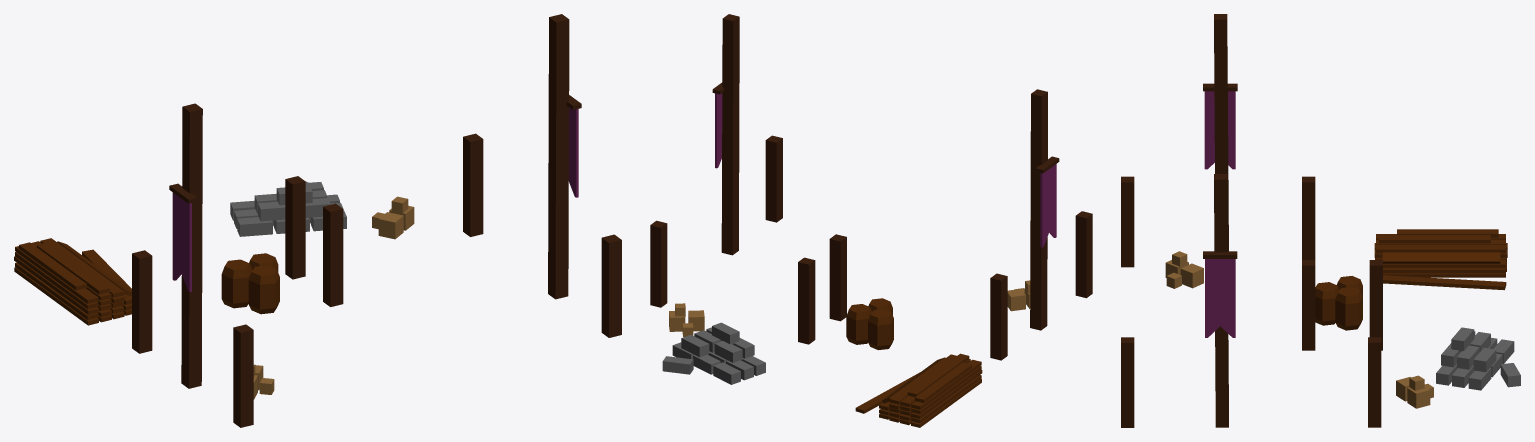
Rendered from DwellingBuildPhase1v1.fbx.
3 views of the same model, side by side, from view 1: azimuth 30°, elevation 25°; view 2: azimuth 150°, elevation 25°; view 3: azimuth 270°, elevation 25° (orthographic). The views are drawn at different scales.
Visible parts, largest first — view 1: Cube.656; view 2: Cube.656; view 3: Cube.656.
Boxes of the visible parts, x1=… form: Cube.656: x1=14, y1=14, x2=621, y2=427; Cube.656: x1=650, y1=14, x2=1092, y2=427; Cube.656: x1=1121, y1=14, x2=1520, y2=427.
Bounding box in the file's own units: 208 × 139 × 203.
